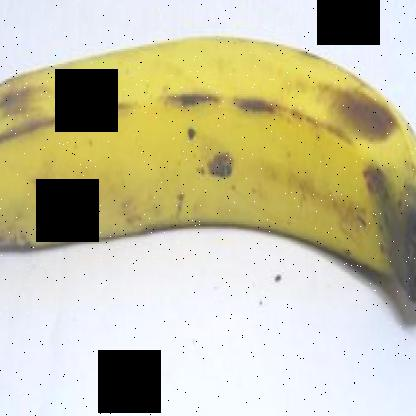ripe: (1, 23, 415, 339)
